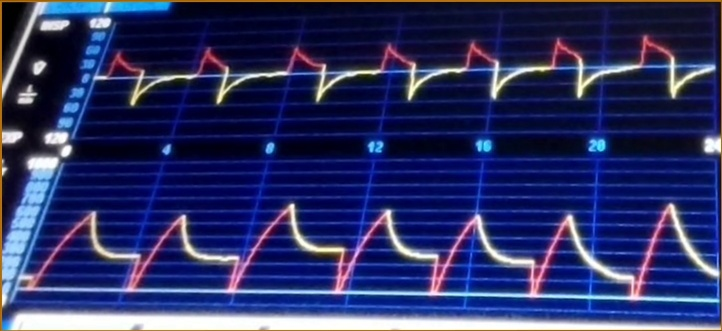Flow: (104, 29, 716, 134)
Leakage Volume: (45, 194, 717, 311)
